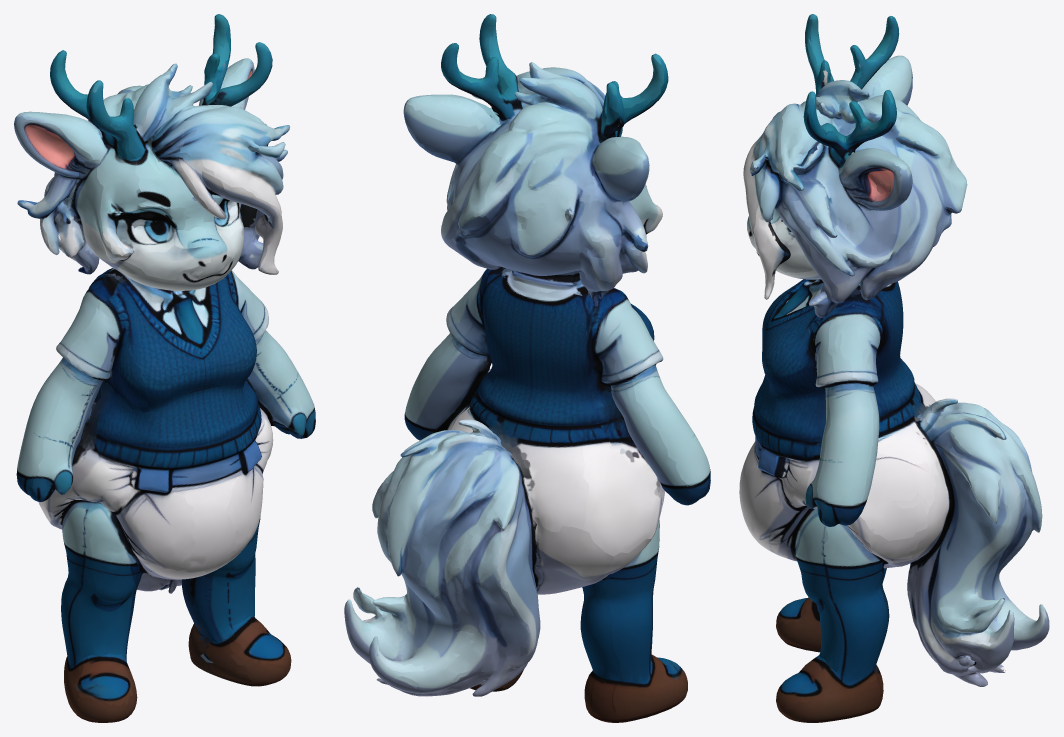
File: krinqilindoll1.glb
3 renders of one model, left to right at view 1: azimuth 30°, elevation 25°; view 2: azimuth 150°, elevation 25°; view 3: azimuth 270°, elevation 25°, orthographic. The views are drawn at different scales.
Visible parts, largest first — view 1: temp_mesh.ply; view 2: temp_mesh.ply; view 3: temp_mesh.ply.
Part boxes in pixels (x1,y1,x2,y2): temp_mesh.ply: (14, 14, 315, 722); temp_mesh.ply: (344, 14, 710, 722); temp_mesh.ply: (739, 14, 1049, 722).
Size of the model in its own units: 0.9498 by 1.97 by 0.8888.
Materials: 1 (1 with a texture image).
